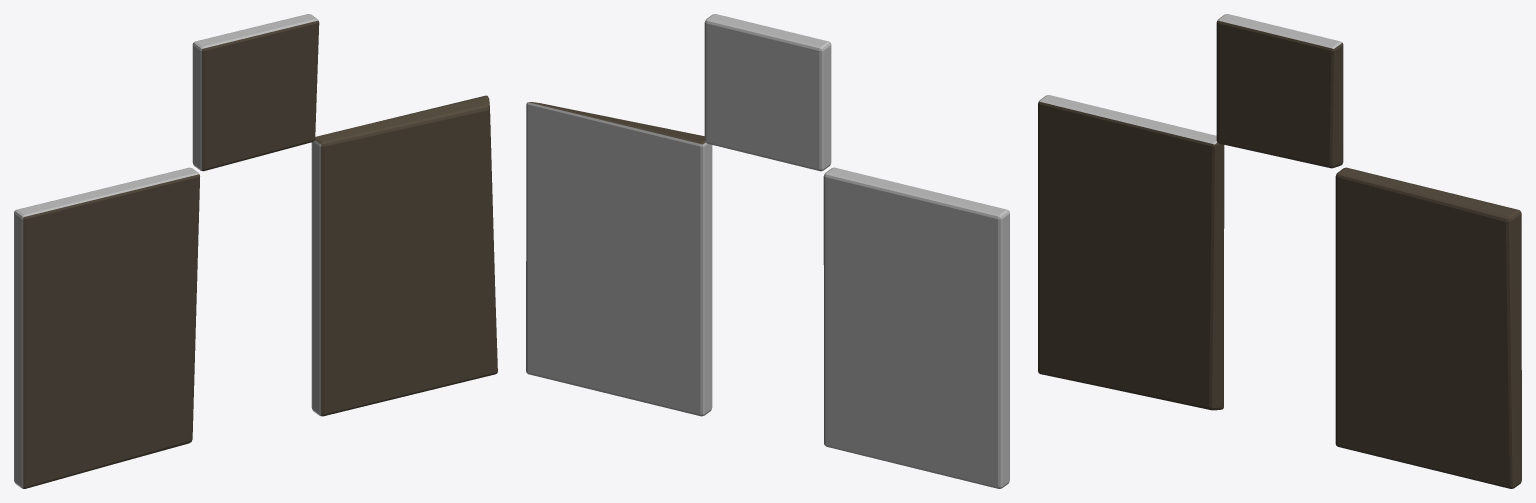
File: doorway_frame_open_1x1_damaged.glb
3 renders of one model, left to right at view 1: azimuth 30°, elevation 25°; view 2: azimuth 150°, elevation 25°; view 3: azimuth 330°, elevation 25°, orthographic.
Parts seen in each view (by area): view 1: Visual_doorway_frame_open_1x1_EastJamb, Visual_doorway_frame_open_1x1_WestJamb, Visual_doorway_frame_open_1x1_Lintel; view 2: Visual_doorway_frame_open_1x1_WestJamb, Visual_doorway_frame_open_1x1_EastJamb, Visual_doorway_frame_open_1x1_Lintel; view 3: Visual_doorway_frame_open_1x1_EastJamb, Visual_doorway_frame_open_1x1_WestJamb, Visual_doorway_frame_open_1x1_Lintel.
Boxes of the visible parts, x1,y1,x2,y2 form: Visual_doorway_frame_open_1x1_EastJamb: (311,95,497,416); Visual_doorway_frame_open_1x1_WestJamb: (14,167,199,488); Visual_doorway_frame_open_1x1_Lintel: (192,14,319,171); Visual_doorway_frame_open_1x1_WestJamb: (823,167,1009,488); Visual_doorway_frame_open_1x1_EastJamb: (526,102,712,416); Visual_doorway_frame_open_1x1_Lintel: (704,14,831,171); Visual_doorway_frame_open_1x1_EastJamb: (1335,167,1521,488); Visual_doorway_frame_open_1x1_WestJamb: (1038,95,1224,410); Visual_doorway_frame_open_1x1_Lintel: (1216,14,1343,168).
Size of the model in its own units: 4 by 3.2 by 0.15.
